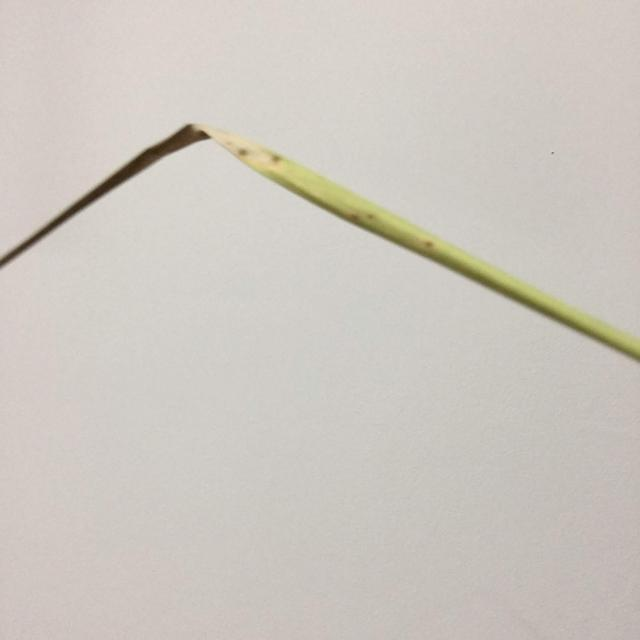brownspots: (348, 202, 382, 231), (266, 149, 286, 168), (236, 141, 252, 162), (419, 235, 436, 254)
